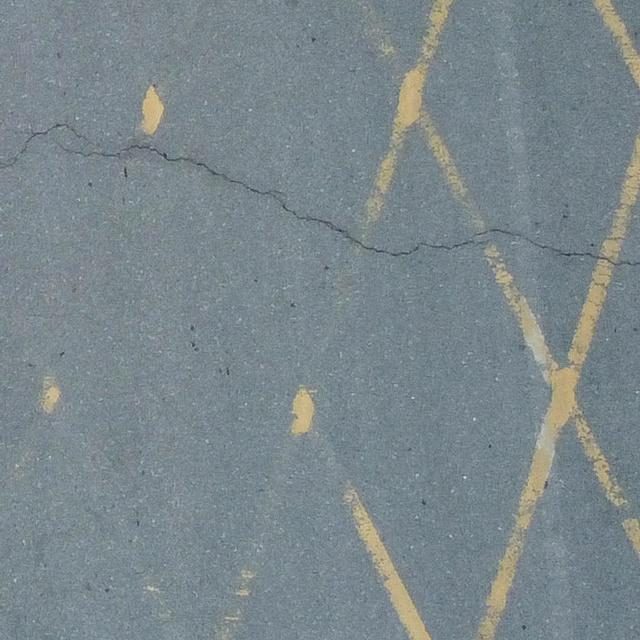TransverseCrack: (4, 121, 640, 268)
